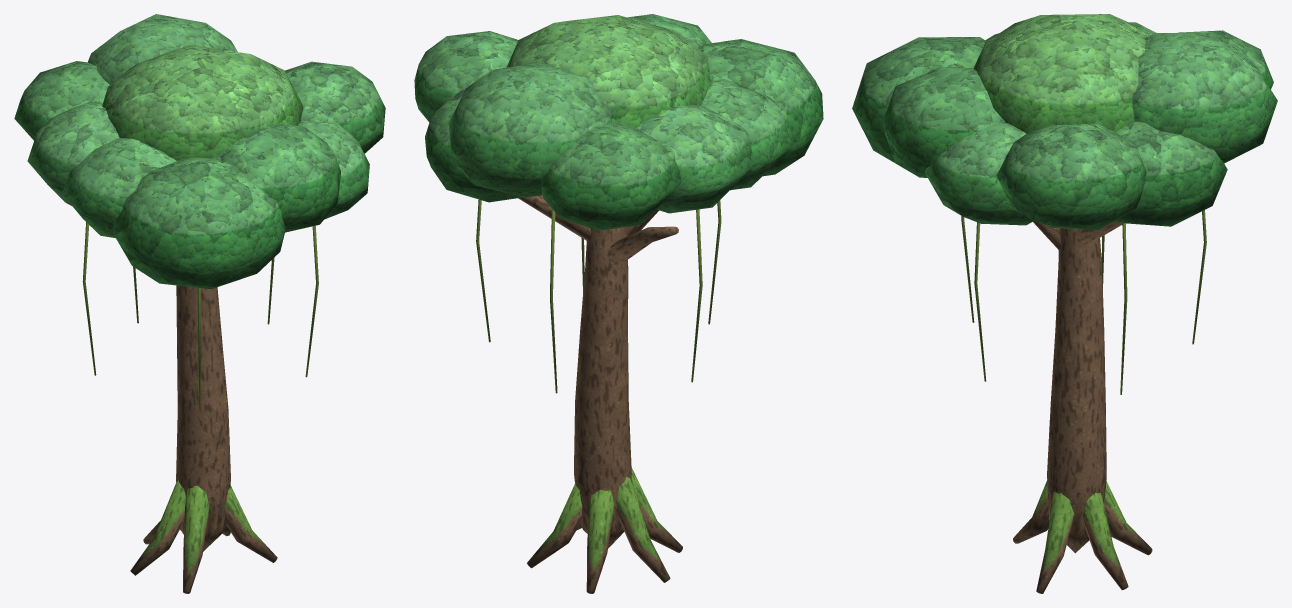
The model's file is jungle_tree_a.glb.
The picture shows the model from 3 angles, left to right: view 1: azimuth 30°, elevation 25°; view 2: azimuth 150°, elevation 25°; view 3: azimuth 270°, elevation 25°; orthographic projection. The views are drawn at different scales.
Visible parts, largest first — view 1: Crown_leaf, Trunk, Lianas_leaf; view 2: Crown_leaf, Trunk, Lianas_leaf; view 3: Crown_leaf, Trunk, Lianas_leaf.
Boxes of the visible parts, x1,y1,x2,y2 form: Crown_leaf: (14, 14, 385, 289); Trunk: (66, 202, 277, 593); Lianas_leaf: (82, 222, 318, 408); Crown_leaf: (414, 14, 823, 230); Trunk: (518, 195, 682, 593); Lianas_leaf: (476, 199, 721, 393); Crown_leaf: (852, 14, 1277, 229); Trunk: (1013, 221, 1152, 593); Lianas_leaf: (961, 210, 1206, 394).
Bounding box in the file's own units: 6.03 × 9.11 × 6.48.
1 material, 1 textured.
